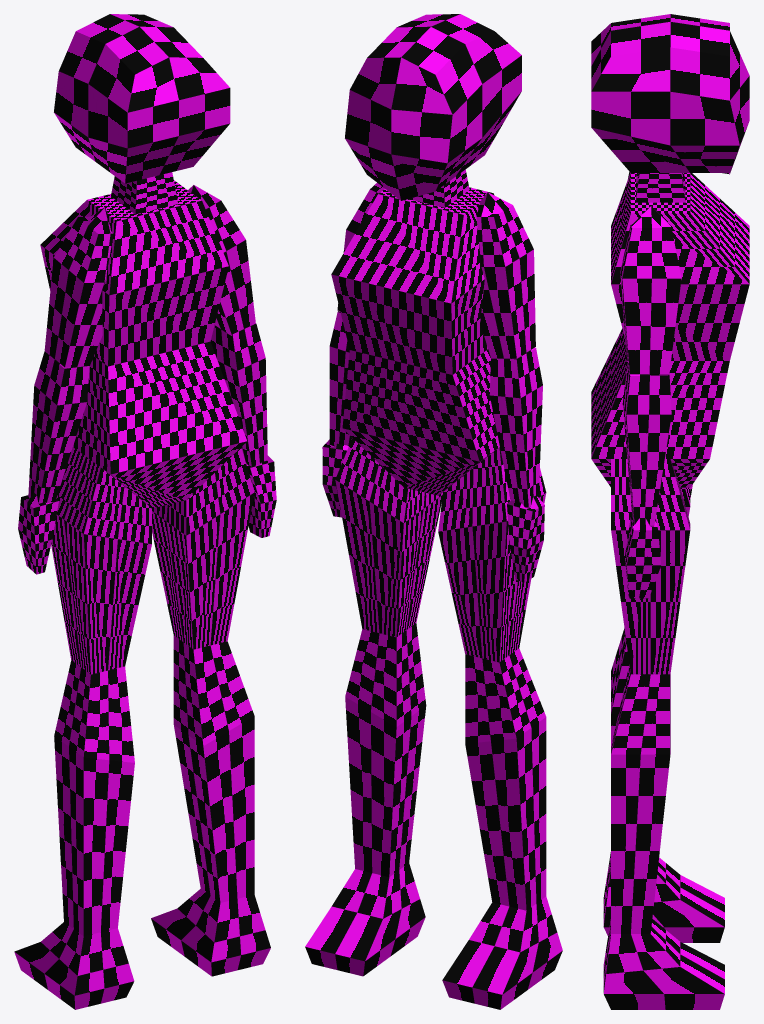
Rendered from char_attempt.obj.
The picture shows the model from 3 angles, left to right: view 1: azimuth 30°, elevation 25°; view 2: azimuth 150°, elevation 25°; view 3: azimuth 270°, elevation 25°; orthographic projection.
Visible parts, largest first — view 1: head, bodyChest, LlegLow, RlegLow, LlegUp, bodyHips, RlegUp, LarmUp, Lfeet, Rfeet, LarmLow, RarmLow (+5 smaller); view 2: head, bodyChest, LlegLow, RlegLow, RlegUp, LlegUp, bodyHips, Lfeet, Rfeet, LarmUp, LarmLow, bodyLowest (+5 smaller); view 3: head, bodyChest, RlegLow, RlegUp, bodyHips, Rfeet, RarmUp, RarmLow, Lfeet, Rhand, neck, LlegLow (+1 smaller).
Part boxes in pixels (box(x1,y1,x2,y2)): head: box(54, 14, 230, 183); bodyChest: box(40, 180, 228, 366); LlegLow: box(54, 660, 134, 936); RlegLow: box(173, 635, 254, 902); LlegUp: box(51, 447, 151, 674); bodyHips: box(73, 341, 246, 474); RlegUp: box(152, 447, 254, 649); LarmUp: box(44, 207, 113, 367); Lfeet: box(14, 922, 134, 1009); Rfeet: box(151, 888, 270, 976); LarmLow: box(28, 351, 89, 503); RarmLow: box(210, 323, 267, 466); head: box(345, 14, 521, 200); bodyChest: box(331, 187, 494, 374); LlegLow: box(465, 648, 546, 910); RlegLow: box(345, 623, 426, 877); RlegUp: box(335, 438, 442, 637); LlegUp: box(438, 447, 546, 662); bodyHips: box(342, 349, 499, 461); Lfeet: box(442, 896, 562, 1009); Rfeet: box(305, 863, 425, 976); LarmUp: box(476, 192, 535, 358); LarmLow: box(489, 347, 542, 508); bodyLowest: box(343, 428, 497, 495); head: box(591, 14, 749, 174); bodyChest: box(611, 173, 749, 360); RlegLow: box(611, 664, 670, 933); RlegUp: box(611, 459, 690, 674); bodyHips: box(591, 328, 729, 458); Rfeet: box(603, 919, 724, 1009); RarmUp: box(620, 206, 681, 375); RarmLow: box(622, 367, 671, 526); Lfeet: box(603, 852, 724, 942); Rhand: box(625, 516, 661, 598); neck: box(636, 173, 685, 202); LlegLow: box(611, 628, 629, 746).
Bounding box in the file's own units: 0.8273 × 3.28 × 0.5.
Materials: 1 (1 with a texture image).
